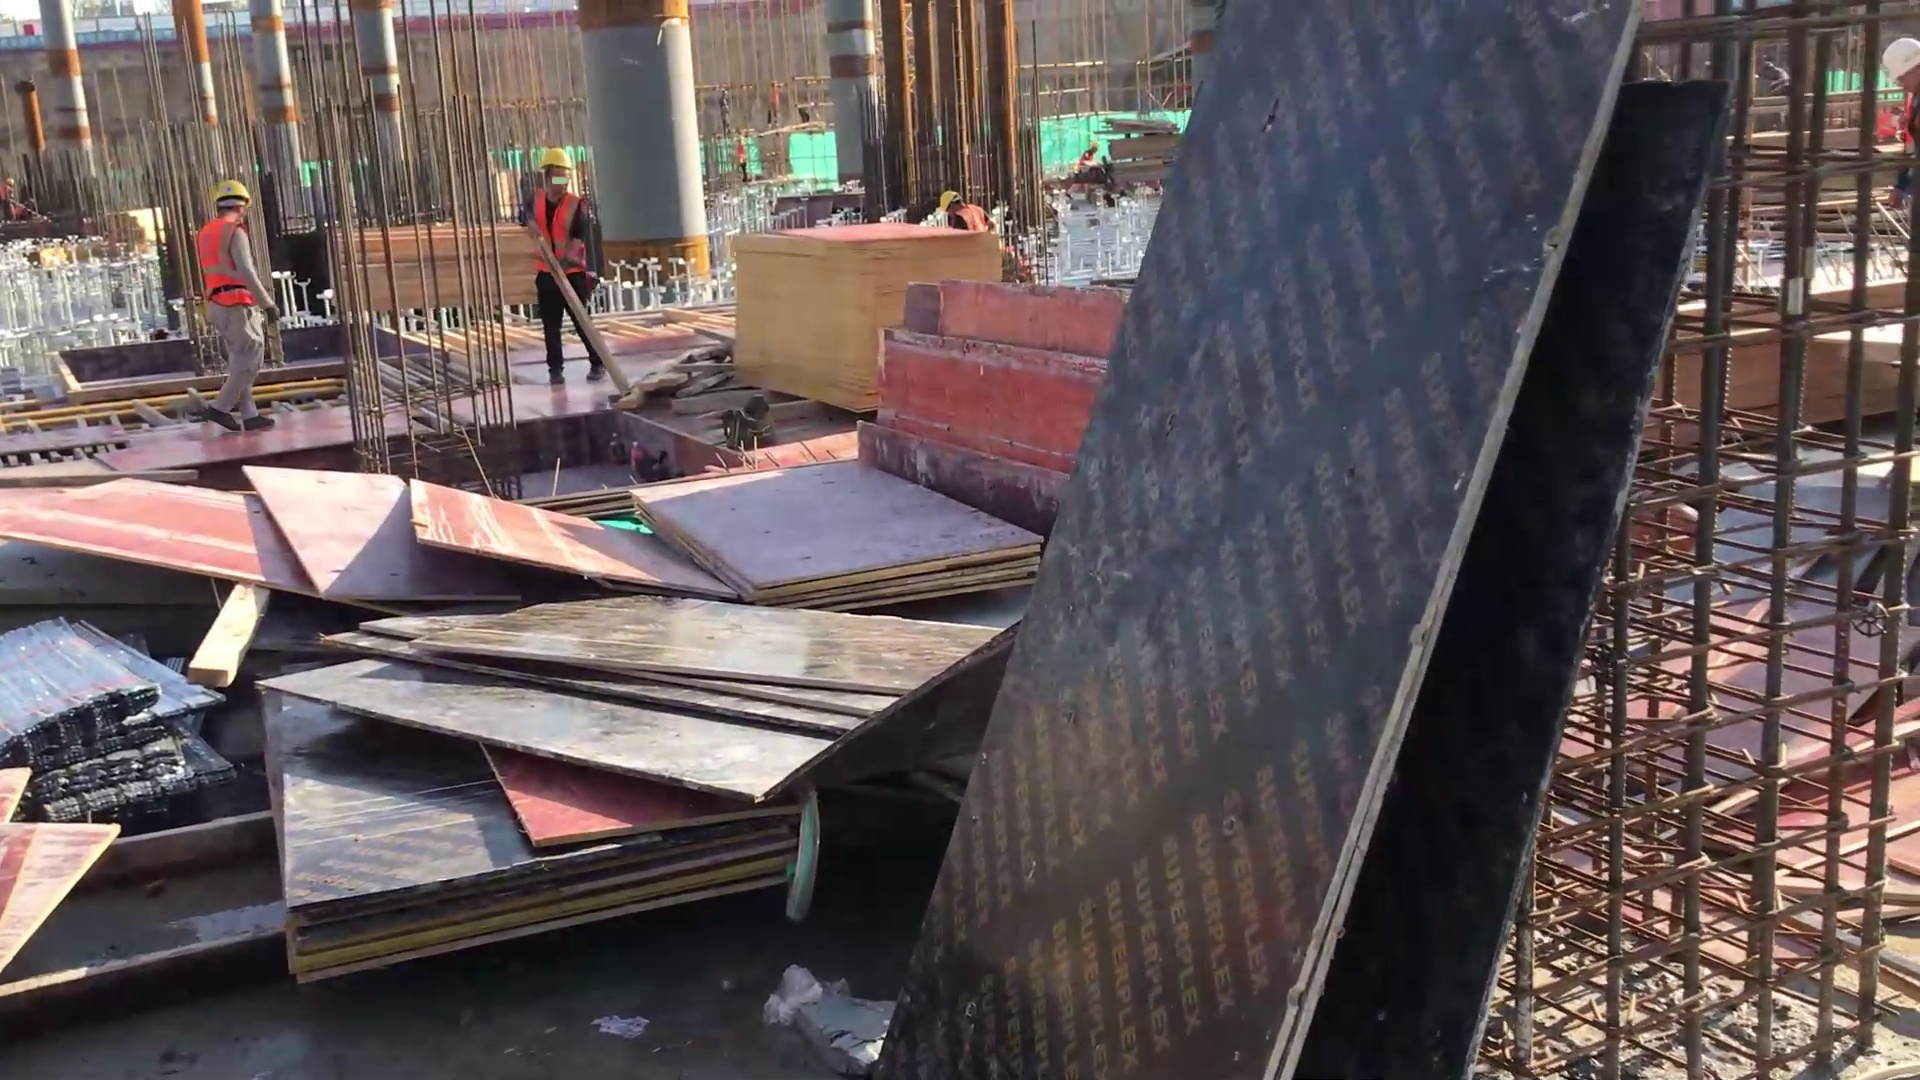helmet: (1878, 34, 1919, 86), (211, 178, 256, 206), (539, 147, 576, 171), (937, 190, 960, 211), (1090, 140, 1100, 153)
person: (192, 175, 295, 437), (522, 135, 619, 390), (930, 182, 997, 235), (1077, 138, 1101, 165)
vest: (196, 214, 264, 306), (533, 184, 591, 276), (958, 202, 990, 233), (1907, 93, 1916, 154), (1881, 112, 1899, 139), (1081, 149, 1098, 163)
